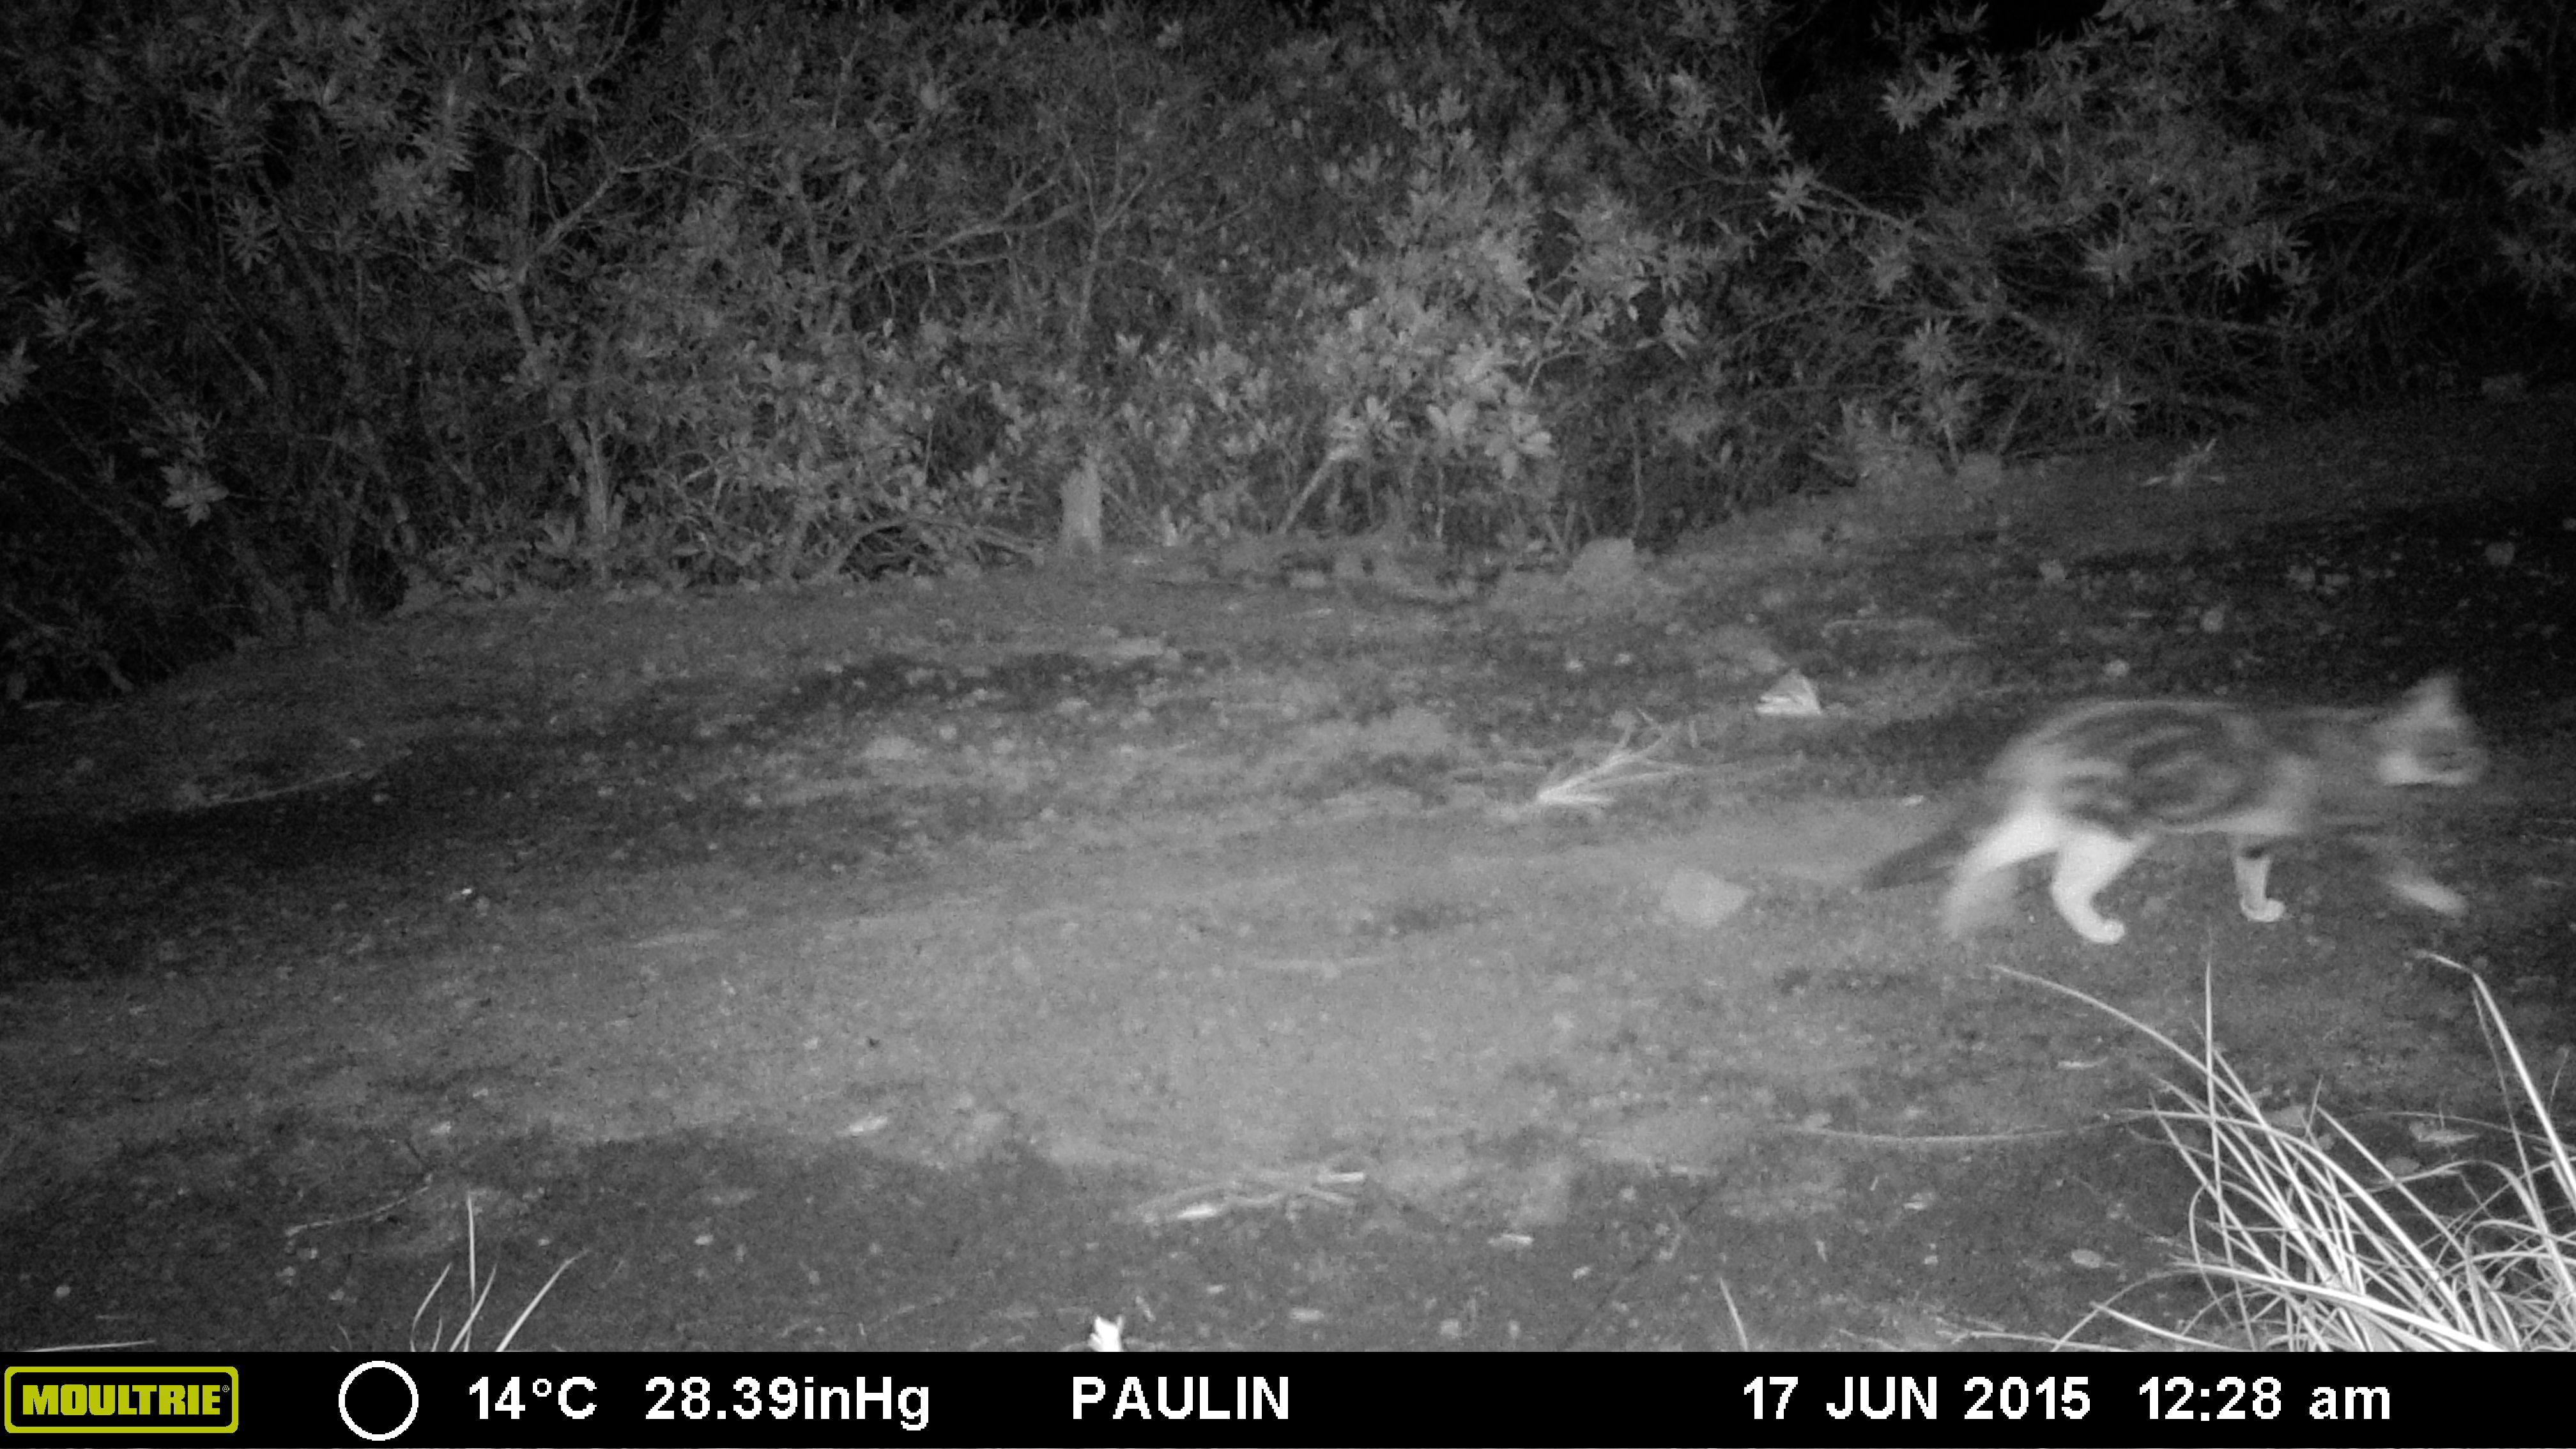cat: (1928, 660, 2502, 989)
